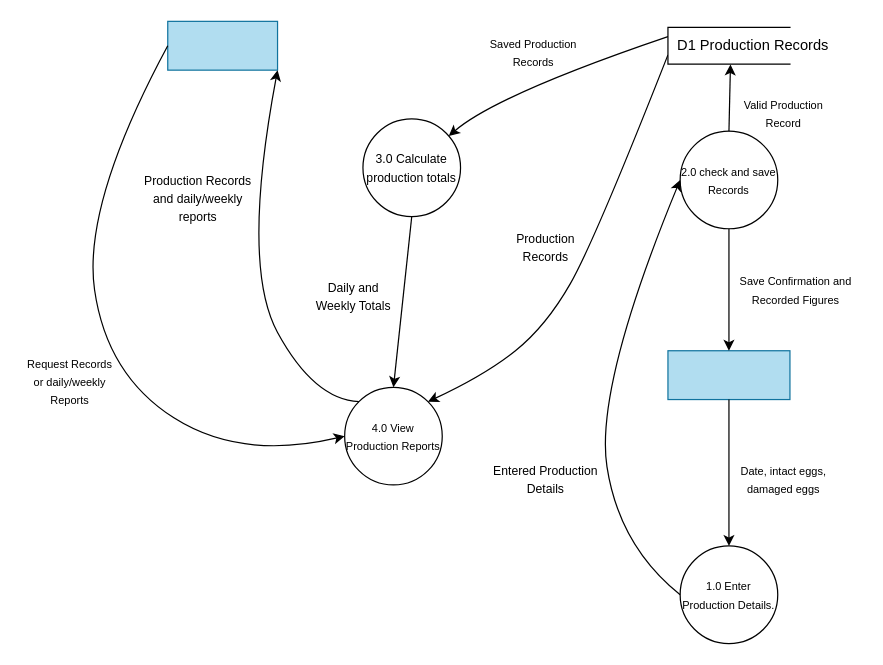
The diagram is 883 pixels wide and 665 high, and some of its shapes have lost their labels. The box of each missing label's shape, as (x1, y1, x2, y2) in pixels:
Farm Owner (Brenda): (167, 20, 278, 70)
Record-Keeping Worker: (667, 350, 790, 400)
